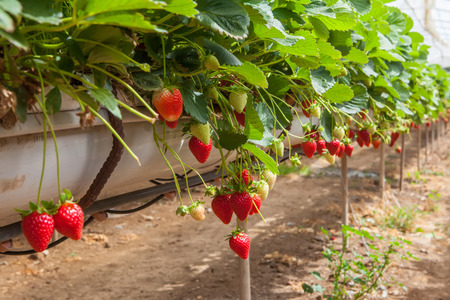ripe: (20, 209, 55, 251), (51, 200, 84, 242), (209, 189, 234, 226), (226, 228, 250, 259), (231, 187, 252, 222), (187, 137, 212, 163), (236, 167, 256, 190), (300, 136, 318, 159), (234, 107, 252, 130), (300, 97, 315, 118), (247, 194, 261, 215), (165, 113, 179, 131), (305, 124, 321, 138), (326, 139, 339, 155), (358, 128, 371, 142), (316, 136, 325, 156), (343, 142, 354, 158), (336, 141, 345, 158), (342, 127, 354, 139), (390, 131, 400, 143), (355, 132, 363, 147), (363, 134, 371, 147), (373, 135, 380, 149), (396, 148, 403, 154)
unripe: (151, 84, 183, 122), (189, 117, 211, 145), (228, 86, 249, 113), (258, 165, 277, 192), (187, 202, 206, 221), (254, 180, 268, 203), (204, 54, 221, 72), (269, 137, 284, 157), (324, 149, 337, 167), (207, 84, 221, 100), (310, 103, 322, 119), (333, 123, 344, 139), (176, 204, 189, 217), (384, 134, 392, 145)
